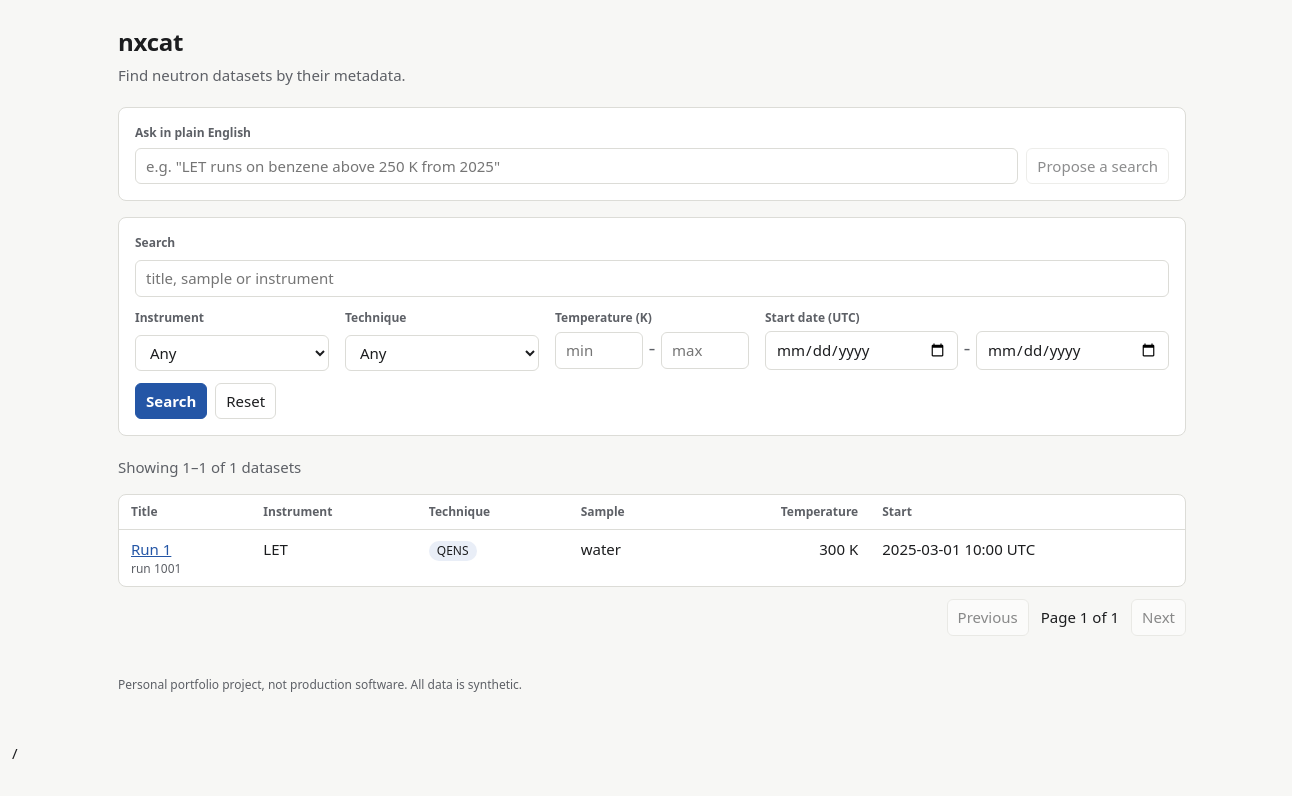
plain-English search › explains when plain-English search is switched off
Type "LET runs" into the field labelled "Ask in plain English" at (577, 166), box [135,148,1018,184]
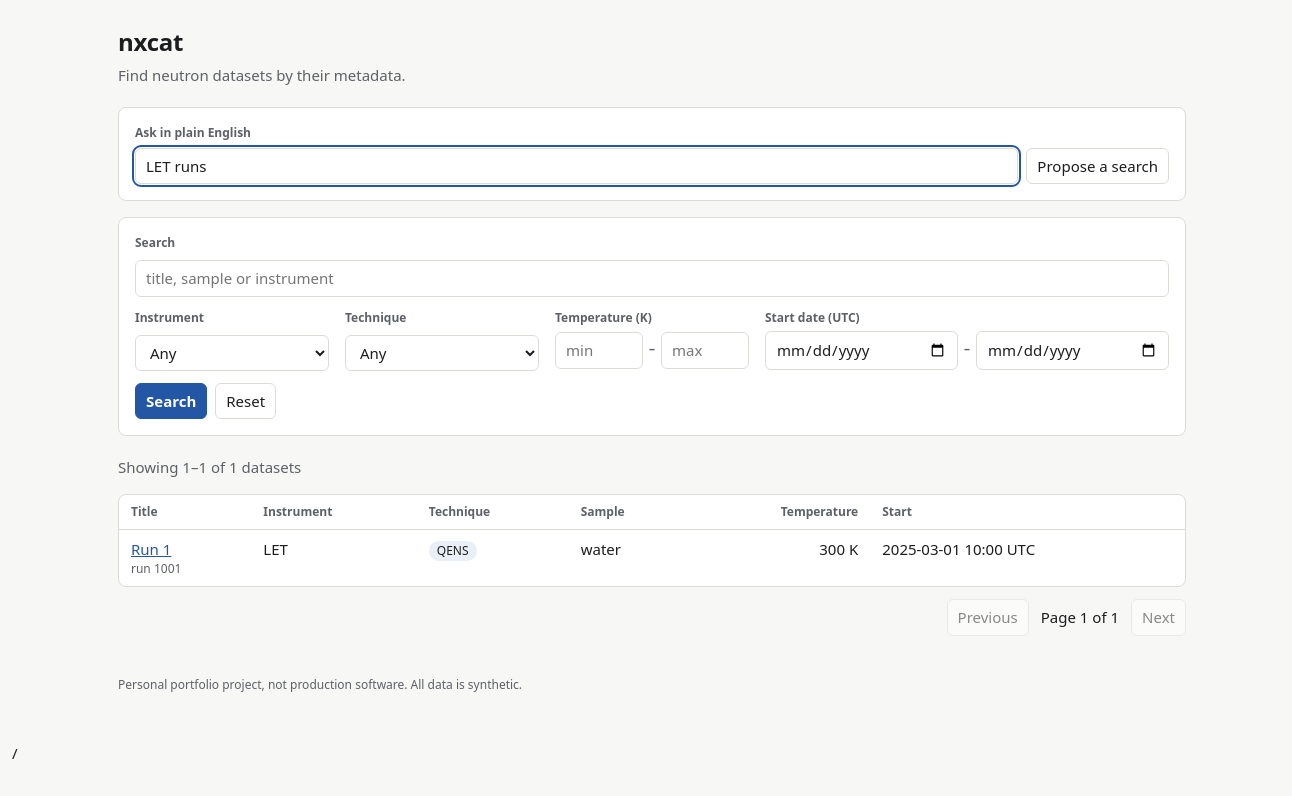
Click the button "Propose a search" at (1098, 166), box [1026,148,1169,184]
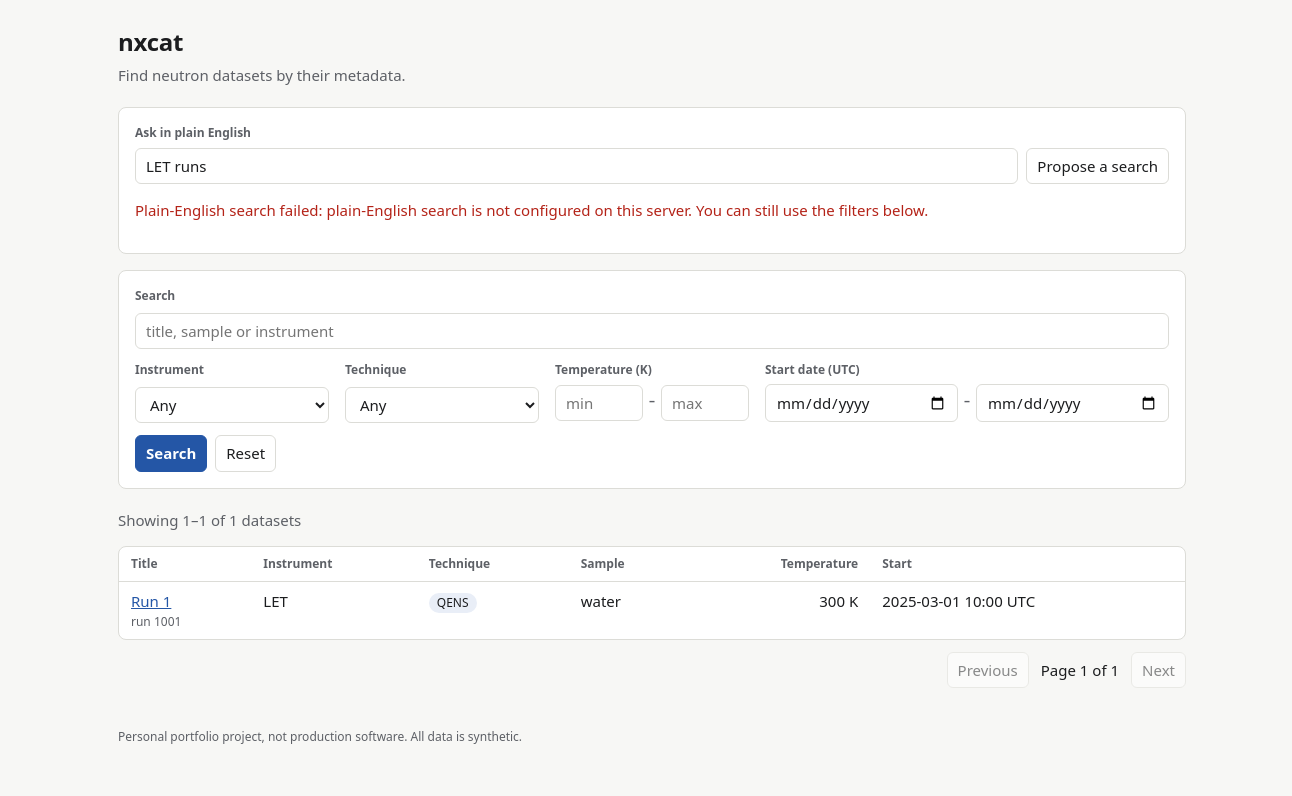
Expected: the message shows "not configured on this server. You can still use the filters below.", [326,200,928,220]
